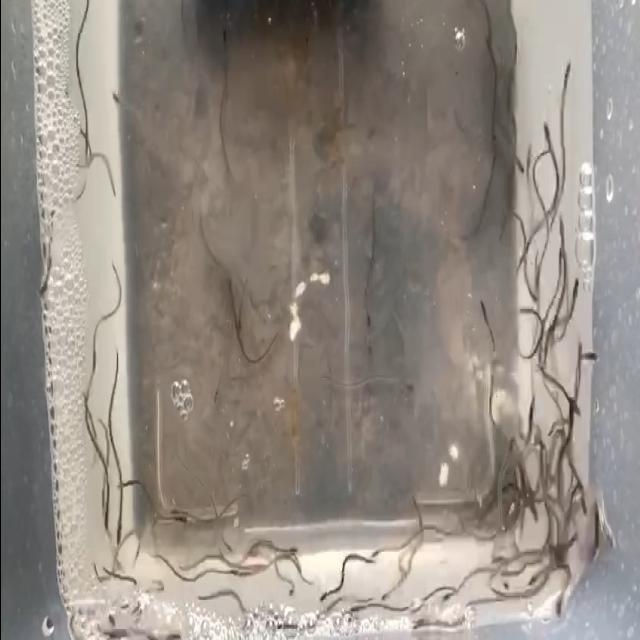inactive_glass_eel: (588, 487, 602, 562), (595, 499, 614, 551), (551, 580, 569, 624), (574, 470, 588, 520), (556, 216, 570, 264), (524, 396, 538, 444), (567, 282, 582, 326), (442, 580, 464, 610), (556, 66, 574, 102), (111, 514, 128, 550), (475, 300, 491, 336), (574, 348, 596, 374), (562, 392, 584, 417), (101, 491, 112, 541), (406, 612, 432, 632), (37, 264, 50, 304), (170, 499, 193, 521), (542, 120, 554, 158), (528, 562, 546, 584), (347, 596, 369, 614), (548, 249, 560, 281), (368, 544, 388, 563), (218, 23, 228, 61), (168, 515, 191, 531), (282, 544, 300, 564), (229, 562, 247, 582), (378, 586, 394, 608), (364, 308, 372, 352), (316, 581, 332, 603), (396, 380, 414, 398)
